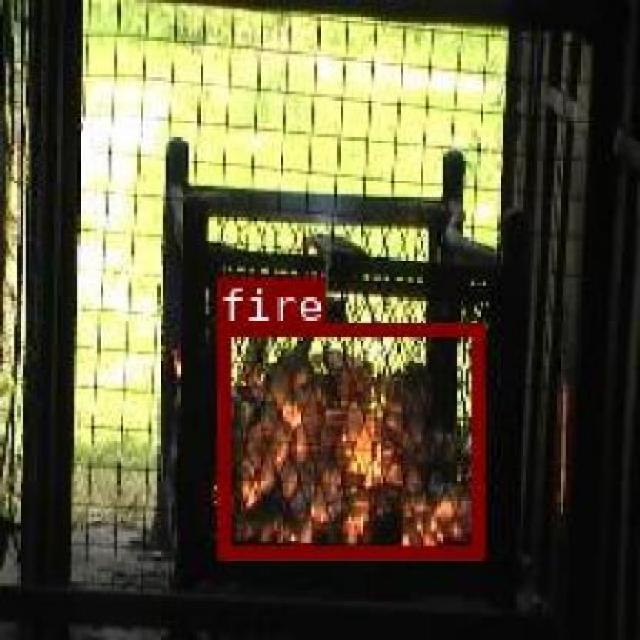Fire: (217, 320, 480, 558)
